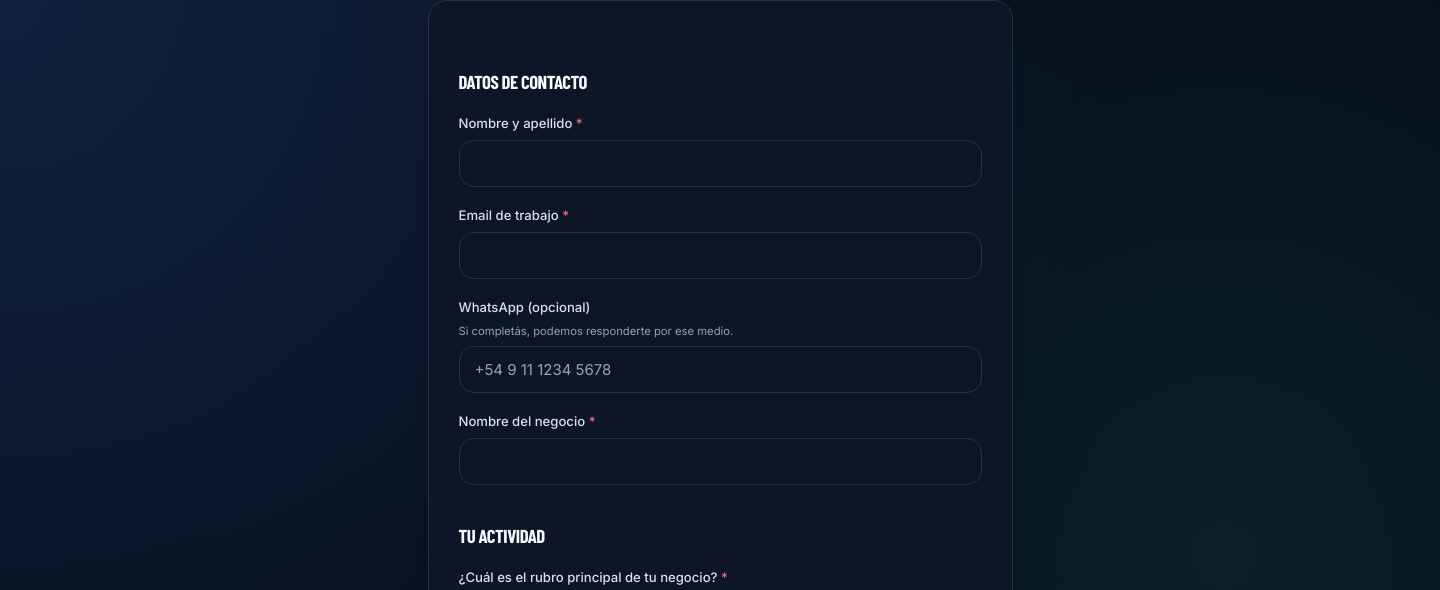
Test: AccessRequestForm › un campo de texto solo muestra su error después de tocarlo
Type "A" into the field labelled "Nombre y apellido *" at (720, 163), box x1=458 y1=140 x2=982 y2=187
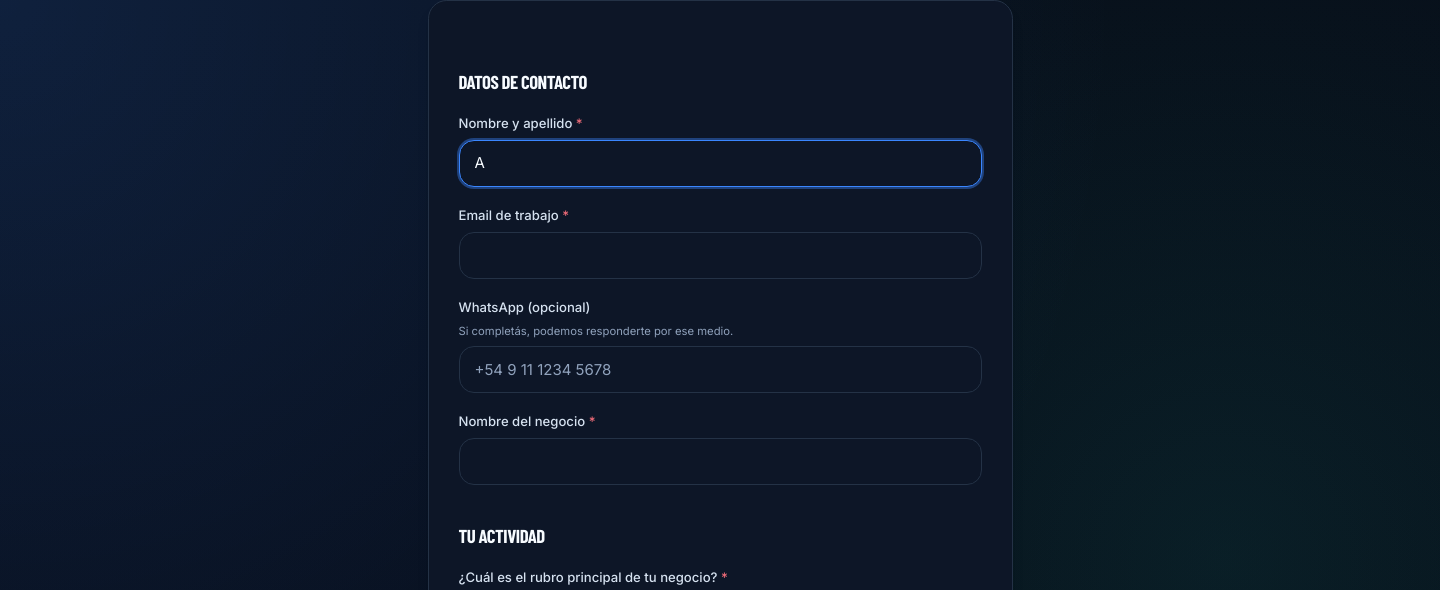
Expected: the text "Escribí tu nombre" is not shown
Press Tab
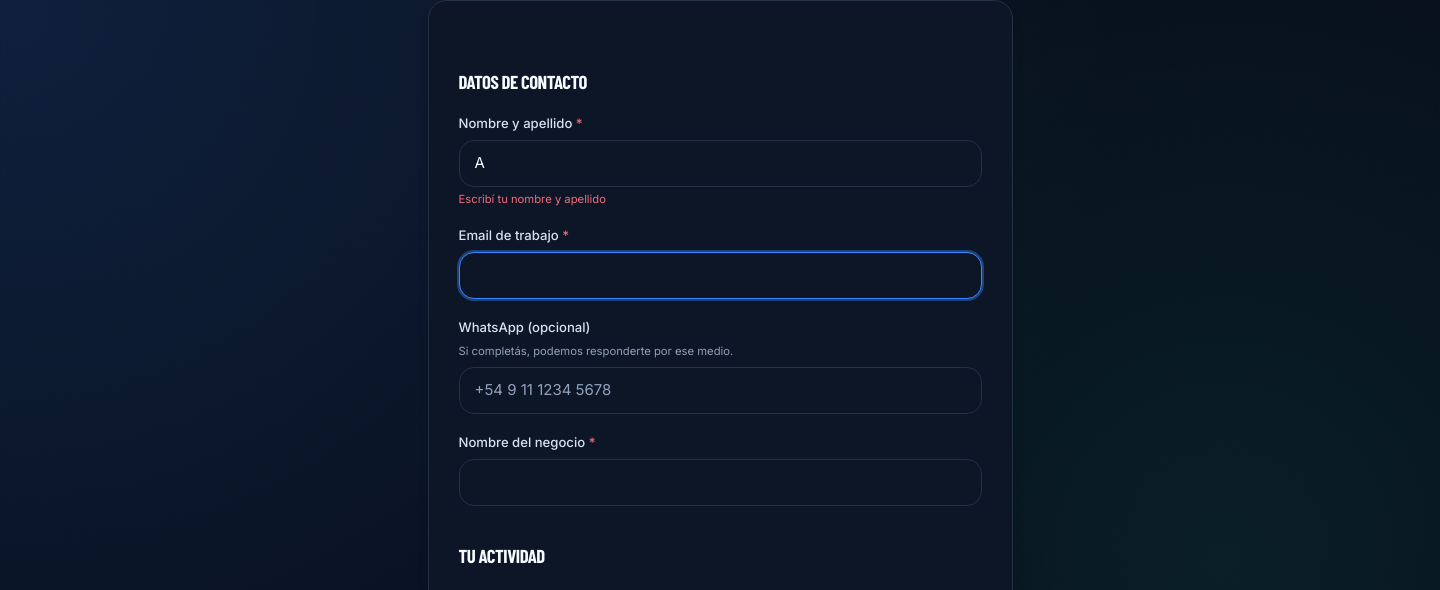
Expected: the text "Escribí tu nombre y apellido" is shown, x1=458 y1=192 x2=606 y2=206
